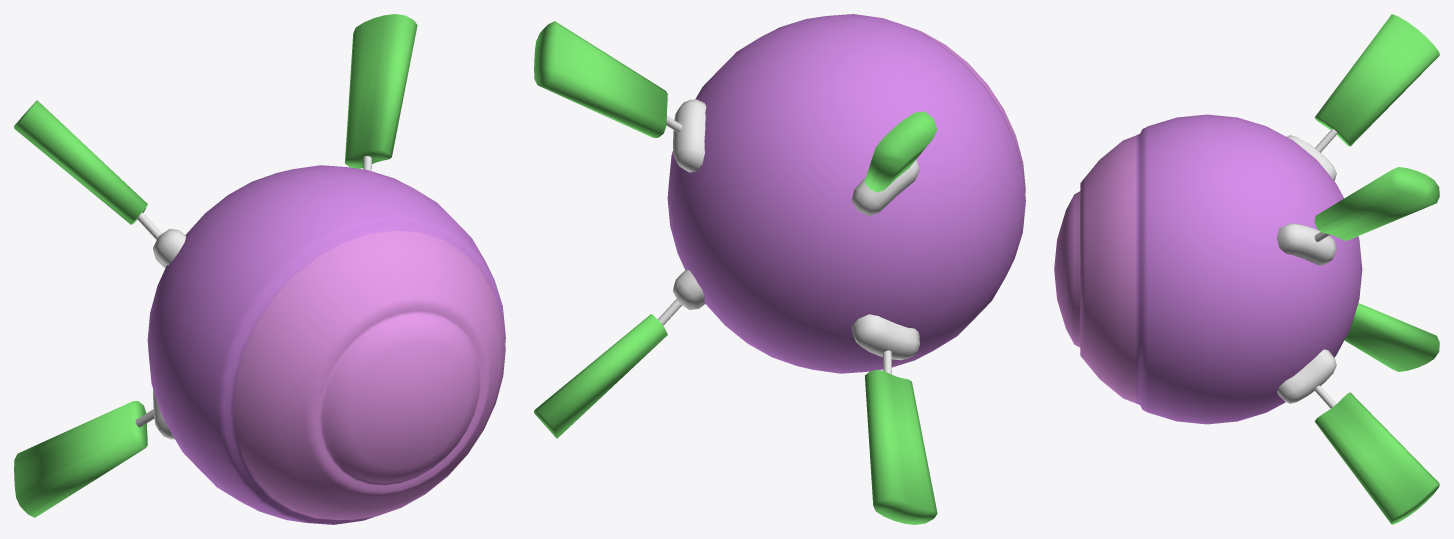
The model's file is SurfaceTarget.fbx.
3 views of the same model, side by side, from view 1: azimuth 30°, elevation 25°; view 2: azimuth 150°, elevation 25°; view 3: azimuth 270°, elevation 25° (orthographic). The views are drawn at different scales.
Visible parts, largest first — view 1: SurfaceTarget; view 2: SurfaceTarget; view 3: SurfaceTarget.
Part boxes in pixels (x1,y1,x2,y2): SurfaceTarget: (14,14,505,524); SurfaceTarget: (534,14,1025,524); SurfaceTarget: (1054,14,1439,524).
Size of the model in its own units: 1.28 by 1.26 by 1.24.
